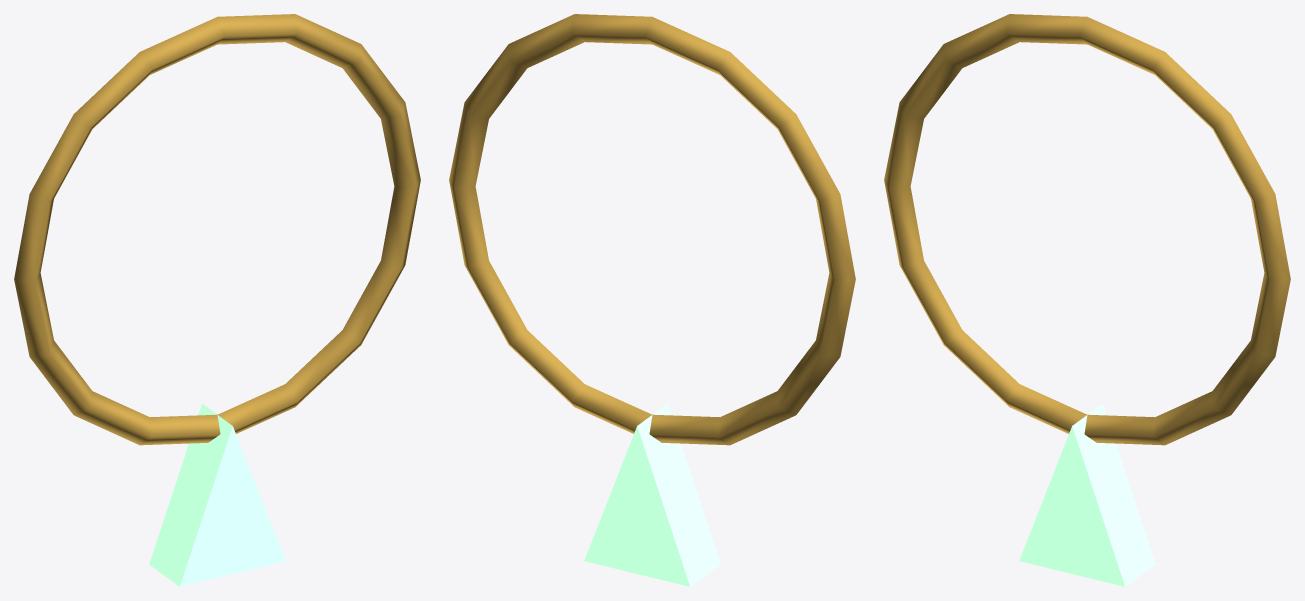
The model's file is amulette_lucioles.glb.
3 views of the same model, side by side, from view 1: azimuth 30°, elevation 25°; view 2: azimuth 150°, elevation 25°; view 3: azimuth 330°, elevation 25° (orthographic).
Visible parts, largest first — view 1: Chaine, Pierre; view 2: Chaine, Pierre; view 3: Chaine, Pierre.
Boxes of the visible parts, x1,y1,x2,y2 form: Chaine: (14,14,420,445); Pierre: (149,403,285,586); Chaine: (449,14,855,445); Pierre: (584,403,720,586); Chaine: (884,14,1290,445); Pierre: (1019,403,1155,586).
Bounding box in the file's own units: 0.23 × 0.295 × 0.03.
